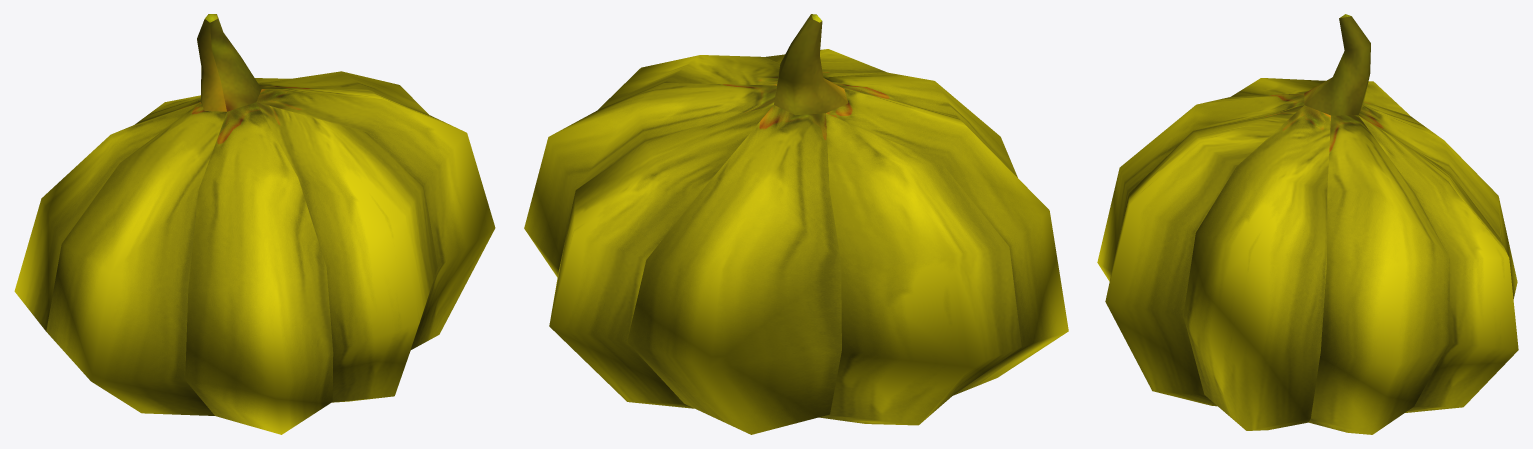
Rendered from ruraltown_pumpking_small_02.fbx.
The picture shows the model from 3 angles, left to right: view 1: azimuth 30°, elevation 25°; view 2: azimuth 150°, elevation 25°; view 3: azimuth 270°, elevation 25°; orthographic projection. The views are drawn at different scales.
Parts seen in each view (by area): view 1: ruraltown_pumpking_small_02; view 2: ruraltown_pumpking_small_02; view 3: ruraltown_pumpking_small_02.
Boxes of the visible parts, x1,y1,x2,y2 form: ruraltown_pumpking_small_02: (14,14,495,434); ruraltown_pumpking_small_02: (524,14,1068,434); ruraltown_pumpking_small_02: (1097,14,1518,434).
Bounding box in the file's own units: 0.4556 × 0.3763 × 0.3983.
